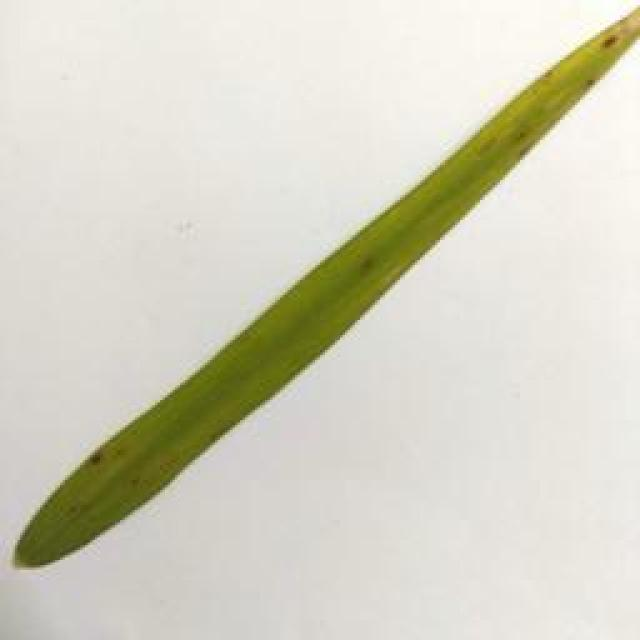Brown_Spot: (353, 253, 392, 286), (79, 444, 117, 470), (598, 34, 630, 58), (514, 125, 534, 163), (476, 133, 499, 158), (588, 76, 600, 95), (543, 64, 549, 86), (129, 472, 141, 483)
